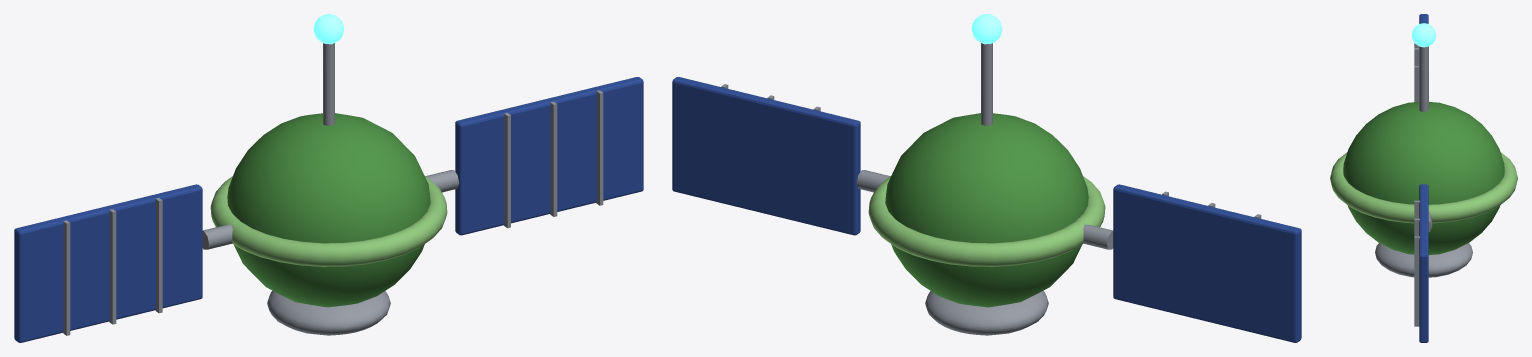
File: satellite_r.glb
The picture shows the model from 3 angles, left to right: view 1: azimuth 30°, elevation 25°; view 2: azimuth 150°, elevation 25°; view 3: azimuth 270°, elevation 25°; orthographic projection. The views are drawn at different scales.
Visible parts, largest first — view 1: body, panel, panel.001, ring, dish, antenna, strut.001, strut.004, strut.002, strut.005, strut, strut.003 (+3 smaller); view 2: body, panel, panel.001, ring, dish, antenna, lamp, arm, arm.001; view 3: body, ring, dish, panel.001, antenna, strut.005, lamp, strut.
Boxes of the visible parts, x1=… form: body: x1=227, y1=113, x2=430, y2=307; panel: x1=14, y1=184, x2=202, y2=342; panel.001: x1=455, y1=77, x2=643, y2=235; ring: x1=210, y1=175, x2=447, y2=266; dish: x1=267, y1=290, x2=390, y2=335; antenna: x1=323, y1=43, x2=334, y2=125; strut.001: x1=109, y1=209, x2=116, y2=324; strut.004: x1=550, y1=101, x2=557, y2=216; strut.002: x1=63, y1=220, x2=70, y2=335; strut.005: x1=596, y1=90, x2=603, y2=205; strut: x1=155, y1=198, x2=162, y2=313; strut.003: x1=504, y1=113, x2=510, y2=228; body: x1=885, y1=113, x2=1088, y2=307; panel: x1=1113, y1=184, x2=1301, y2=342; panel.001: x1=672, y1=77, x2=860, y2=235; ring: x1=868, y1=175, x2=1105, y2=266; dish: x1=925, y1=290, x2=1048, y2=335; antenna: x1=981, y1=43, x2=992, y2=125; lamp: x1=971, y1=14, x2=1002, y2=44; arm: x1=1083, y1=224, x2=1113, y2=249; arm.001: x1=856, y1=170, x2=889, y2=192; body: x1=1343, y1=102, x2=1504, y2=254; ring: x1=1330, y1=152, x2=1517, y2=223; dish: x1=1375, y1=243, x2=1472, y2=277; panel.001: x1=1419, y1=184, x2=1428, y2=342; antenna: x1=1419, y1=46, x2=1428, y2=111; strut.005: x1=1414, y1=236, x2=1419, y2=326; lamp: x1=1411, y1=23, x2=1436, y2=47; strut: x1=1414, y1=66, x2=1418, y2=102.
Bounding box in the file's own units: 21 × 9.85 × 6.9.
